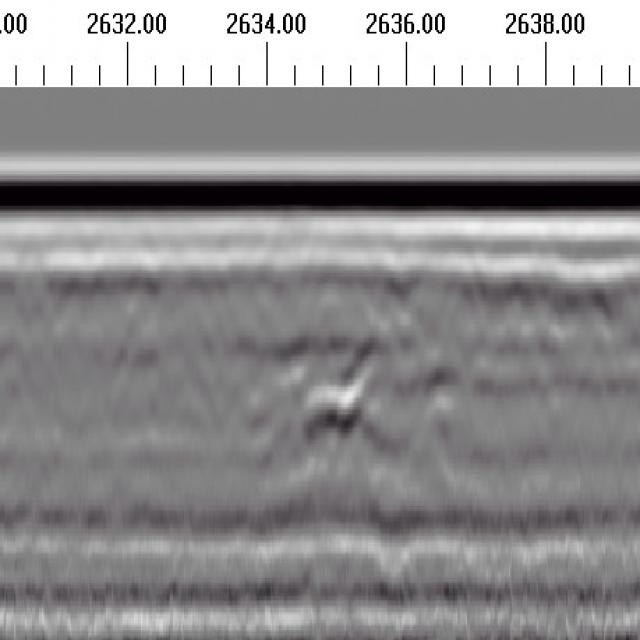loose: (291, 356, 419, 445)
